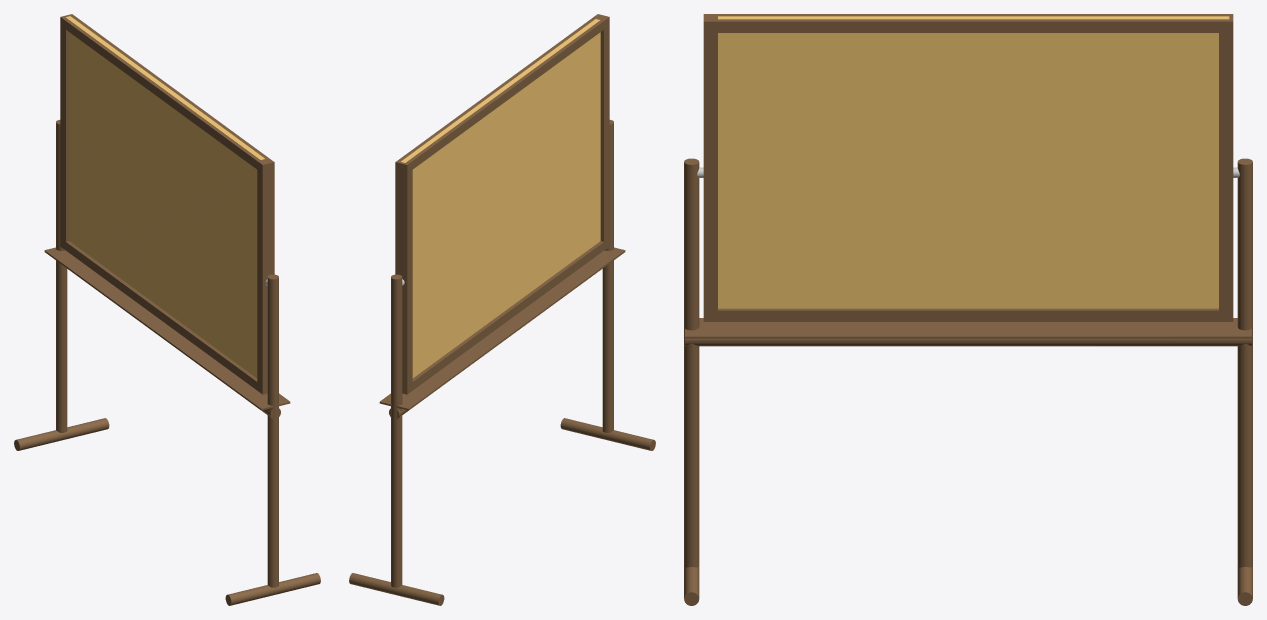
Rendered from Board.fbx.
The picture shows the model from 3 angles, left to right: view 1: azimuth 30°, elevation 25°; view 2: azimuth 150°, elevation 25°; view 3: azimuth 270°, elevation 25°; orthographic projection. The views are drawn at different scales.
Visible parts, largest first — view 1: Backboard, Side Stands, Sideboards (Top and Bottom), Sideboards (Left and Right), Marker Holder, Bottom Stands; view 2: Backboard, Side Stands, Sideboards (Top and Bottom), Sideboards (Left and Right), Marker Holder, Bottom Stands; view 3: Backboard, Sideboards (Top and Bottom), Side Stands, Marker Holder, Sideboards (Left and Right), Undercarraige, Bottom Stands.
Part boxes in pixels (box(x1,y1,x2,y2)): Backboard: box(66, 16, 264, 378); Side Stands: box(56, 120, 278, 587); Sideboards (Top and Bottom): box(65, 18, 268, 390); Sideboards (Left and Right): box(60, 14, 274, 394); Marker Holder: box(44, 247, 290, 410); Bottom Stands: box(14, 418, 320, 605); Backboard: box(401, 19, 600, 378); Side Stands: box(391, 120, 613, 587); Sideboards (Top and Bottom): box(401, 18, 604, 390); Sideboards (Left and Right): box(395, 14, 609, 394); Marker Holder: box(379, 247, 625, 410); Bottom Stands: box(349, 418, 655, 605); Backboard: box(718, 16, 1229, 308); Sideboards (Top and Bottom): box(716, 14, 1220, 321); Side Stands: box(684, 158, 1252, 567); Marker Holder: box(685, 318, 1251, 338); Sideboards (Left and Right): box(703, 14, 1233, 321); Undercarraige: box(685, 338, 1251, 346); Bottom Stands: box(684, 565, 1252, 605).
Size of the model in its own units: 0.7453 by 3.41 by 3.14.
